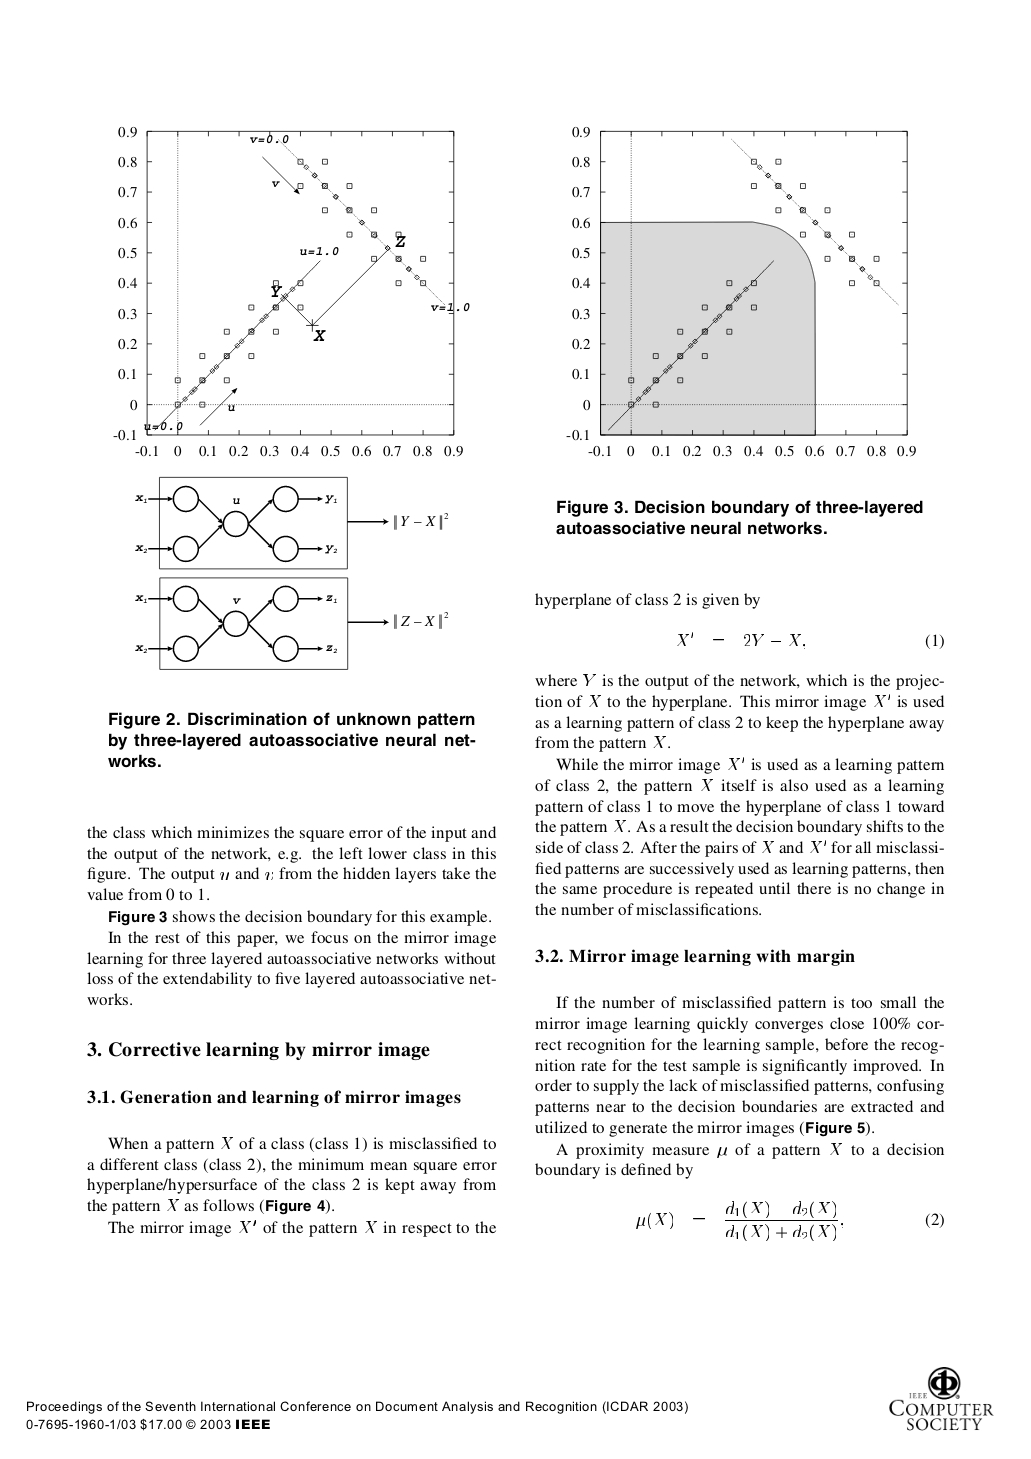figure: (113, 126, 469, 456), (566, 126, 915, 456), (135, 574, 447, 670), (135, 475, 447, 570), (889, 1368, 993, 1430)
formula: (636, 1200, 943, 1241), (677, 631, 943, 649)
